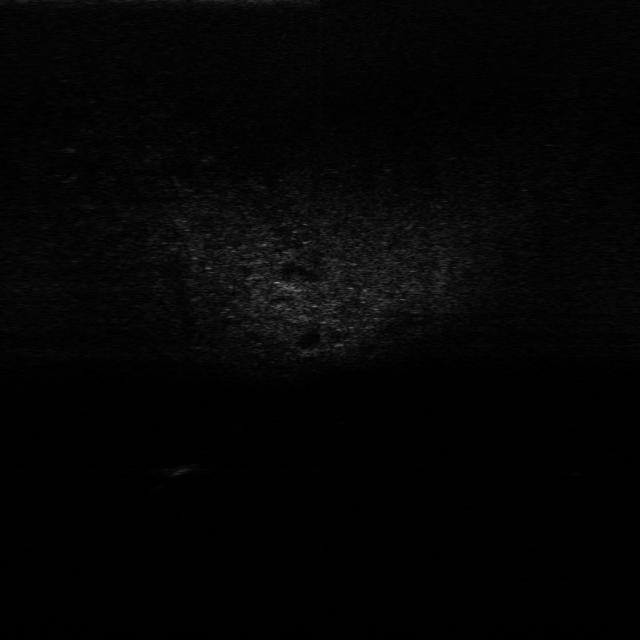cylinder: (163, 458, 206, 481)
